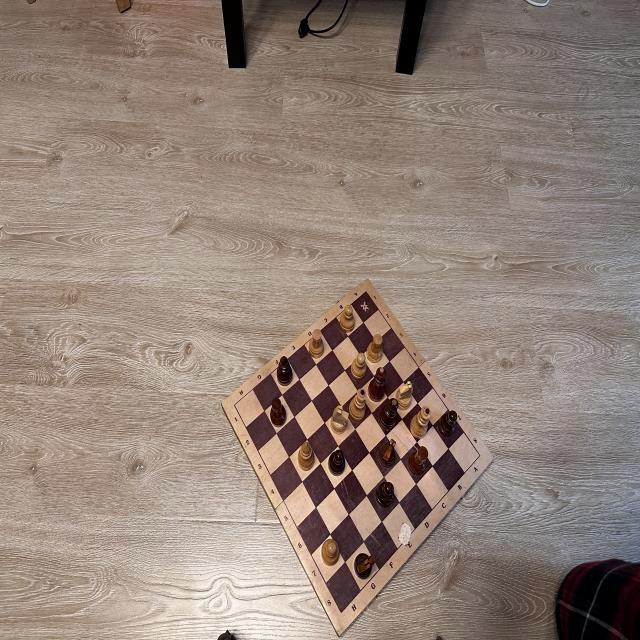chess-table-corners: (338, 610, 344, 616), (478, 452, 482, 458), (233, 402, 236, 408), (364, 290, 368, 293)
